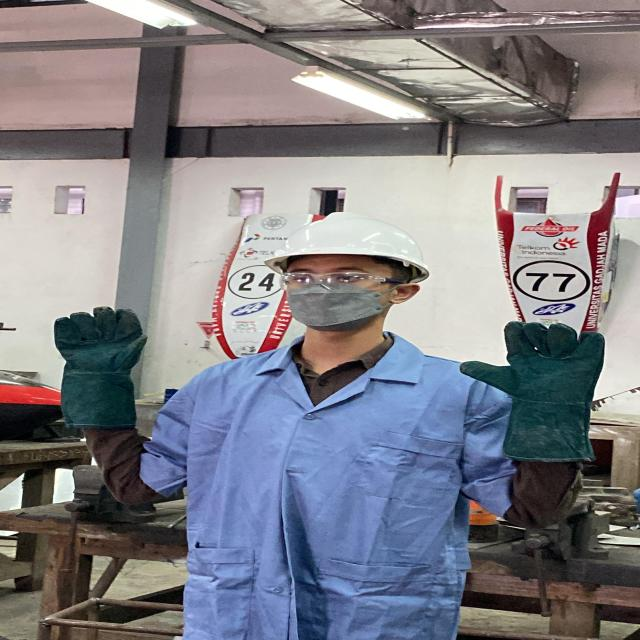face_mask: (271, 266, 388, 329)
glasses: (270, 268, 411, 293)
hand_glove: (453, 316, 614, 406), (45, 305, 155, 380)
head_helmet: (263, 210, 438, 277)
person: (33, 204, 617, 640)
